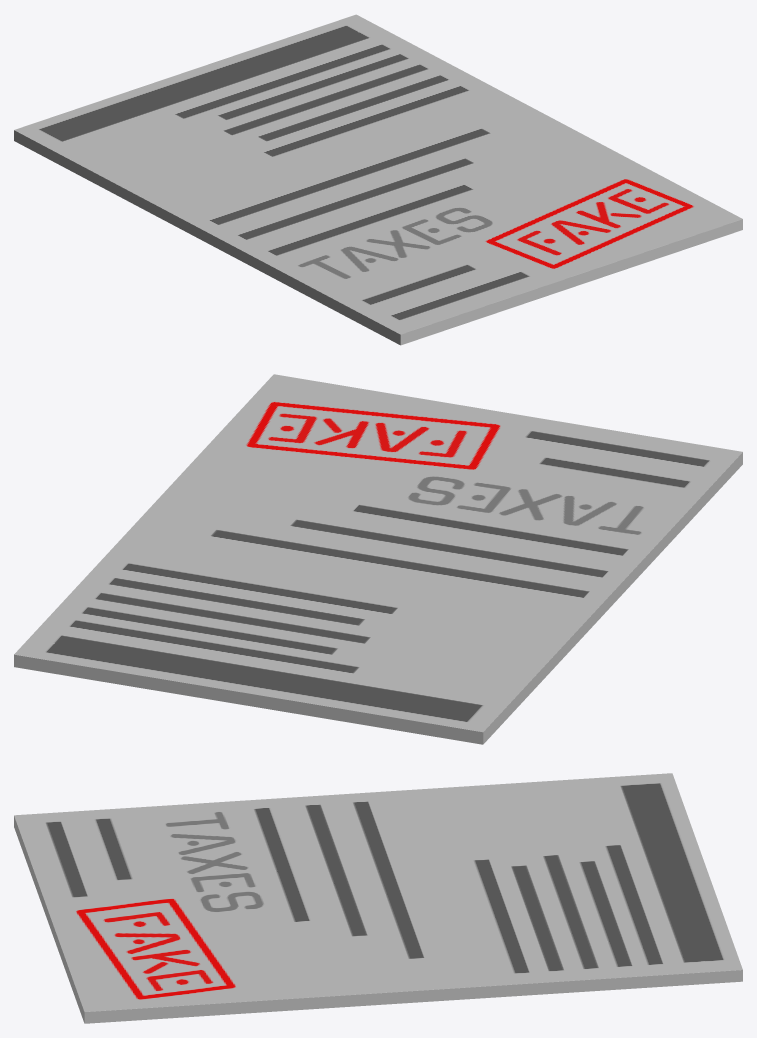
File: Fake2.fbx
3 views of the same model, one above another, from view 1: azimuth 30°, elevation 25°; view 2: azimuth 150°, elevation 25°; view 3: azimuth 270°, elevation 25° (orthographic). The views are drawn at different scales.
Parts seen in each view (by area): view 1: Fake2, Cube; view 2: Fake2, Cube; view 3: Fake2, Cube.
Part boxes in pixels (x1,y1,x2,y2): Fake2: (14,14,742,334); Cube: (14,130,742,345); Fake2: (14,374,742,731); Cube: (14,452,742,744); Fake2: (14,773,742,1011); Cube: (14,816,742,1023).
Size of the model in its own units: 84.9 by 1.94 by 109.
